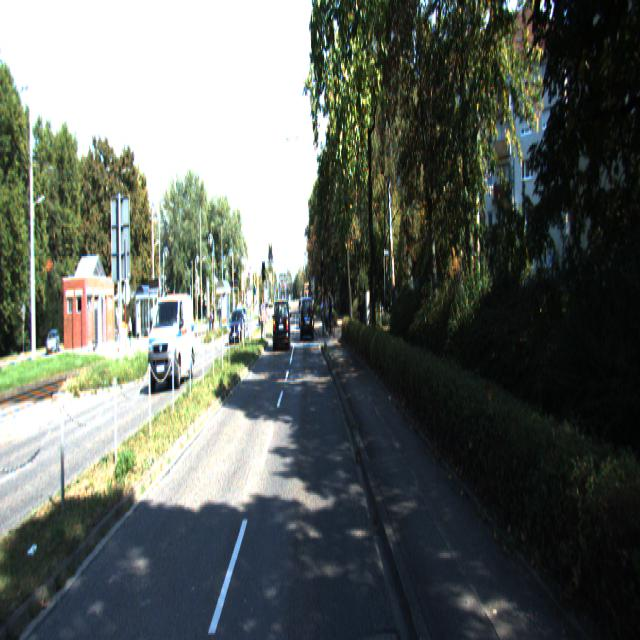Car: (148, 295, 196, 393), (273, 301, 291, 354), (301, 297, 315, 343), (229, 310, 246, 347)
